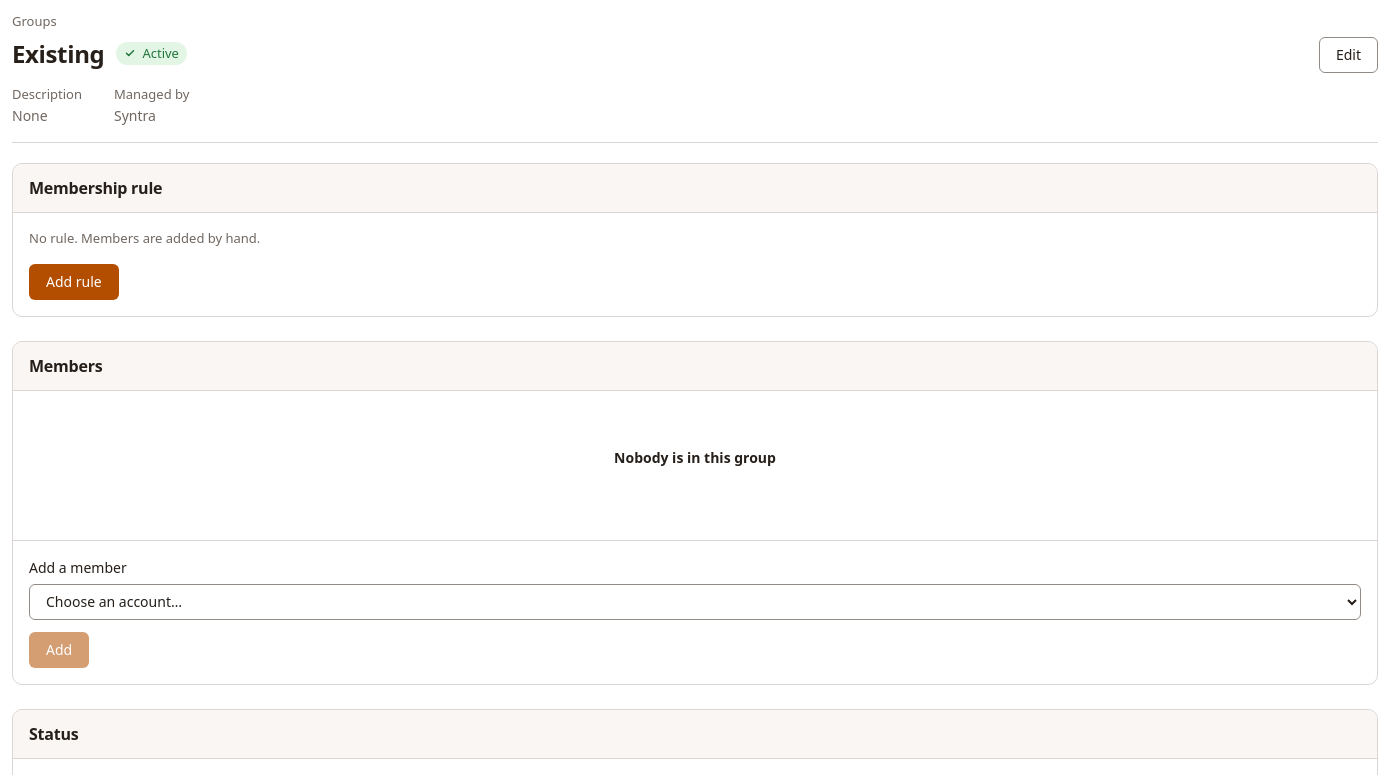
Test: editing a record that already exists › marks the field when the server says the name is taken
This screenshot has width=1390, height=775.
Expected: the heading "Existing" is shown, [12,37,104,70]
Click the button "Edit".
click(1348, 55)  # box [1319,37,1378,73]
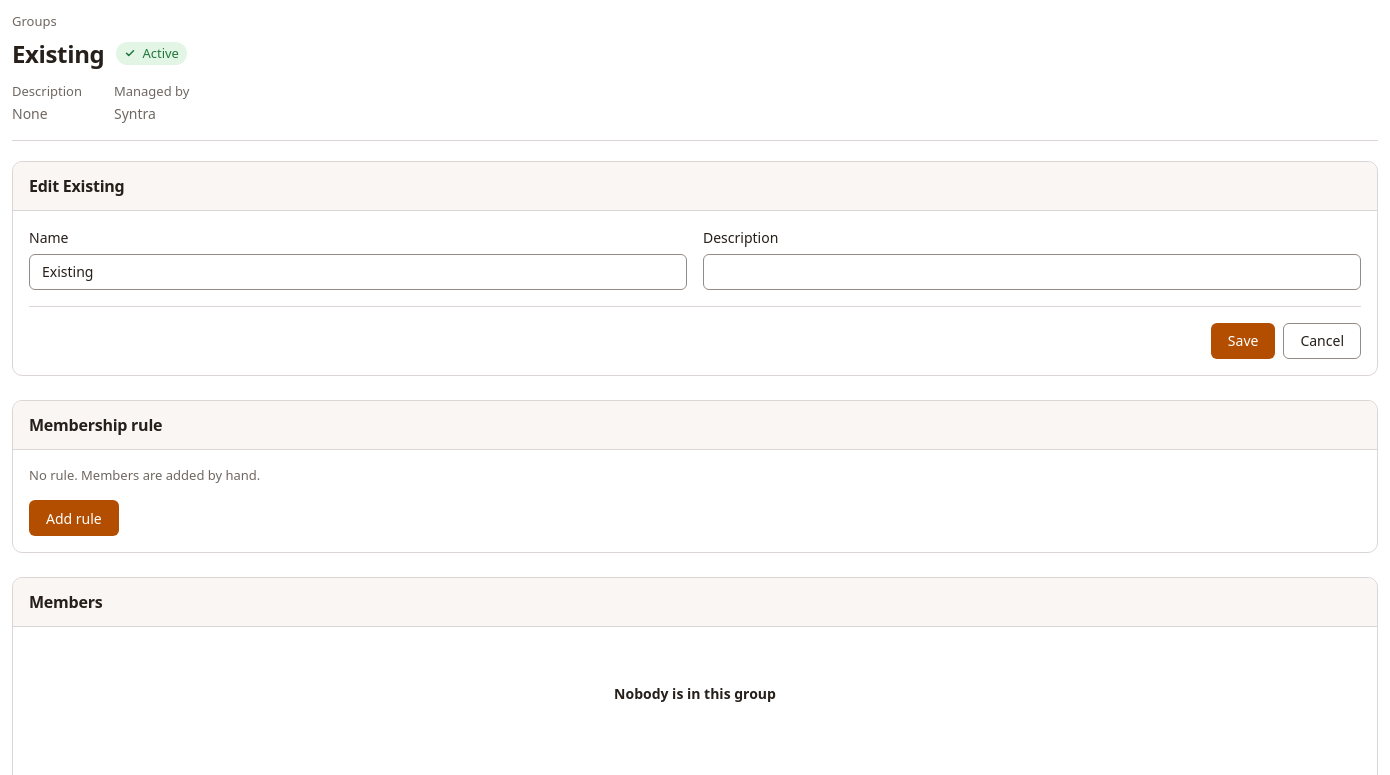
Click the button "Save".
click(1243, 341)  # box [1211,323,1275,359]
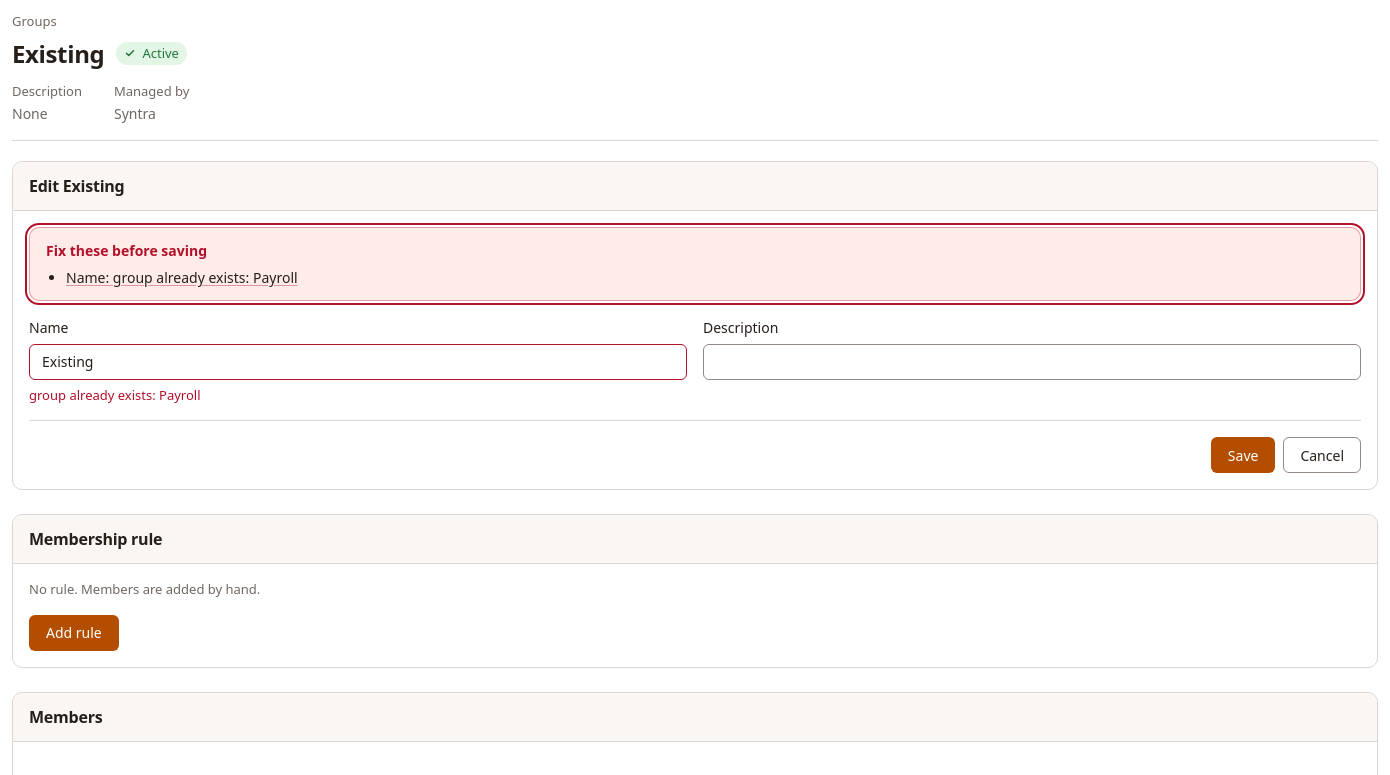
Expected: the text "group already exists: Payroll" is shown, [29,386,201,404]
